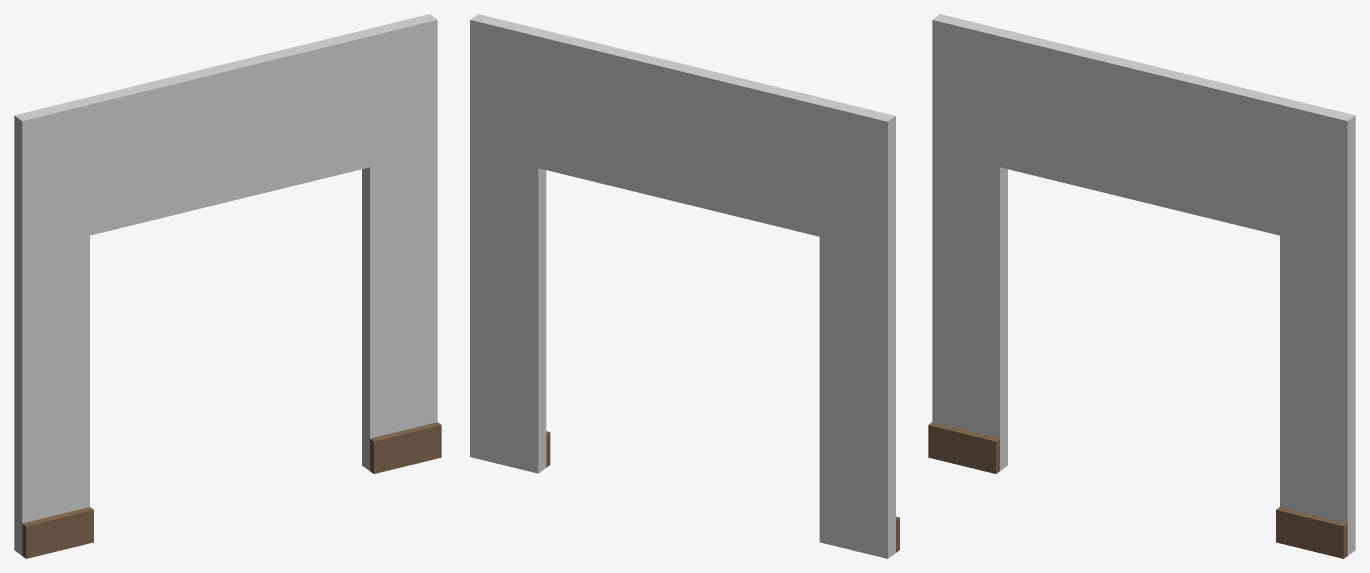
Rendered from Mesh_WallBaseboard_H4.fbx.
3 renders of one model, left to right at view 1: azimuth 30°, elevation 25°; view 2: azimuth 150°, elevation 25°; view 3: azimuth 330°, elevation 25°, orthographic.
Parts seen in each view (by area): view 1: Mesh_WallBaseboard_H4; view 2: Mesh_WallBaseboard_H4; view 3: Mesh_WallBaseboard_H4.
Part boxes in pixels (x1,y1,x2,y2): Mesh_WallBaseboard_H4: (14,14,441,558); Mesh_WallBaseboard_H4: (470,14,899,558); Mesh_WallBaseboard_H4: (928,14,1355,558).
Size of the model in its own units: 3 by 3 by 0.15.
